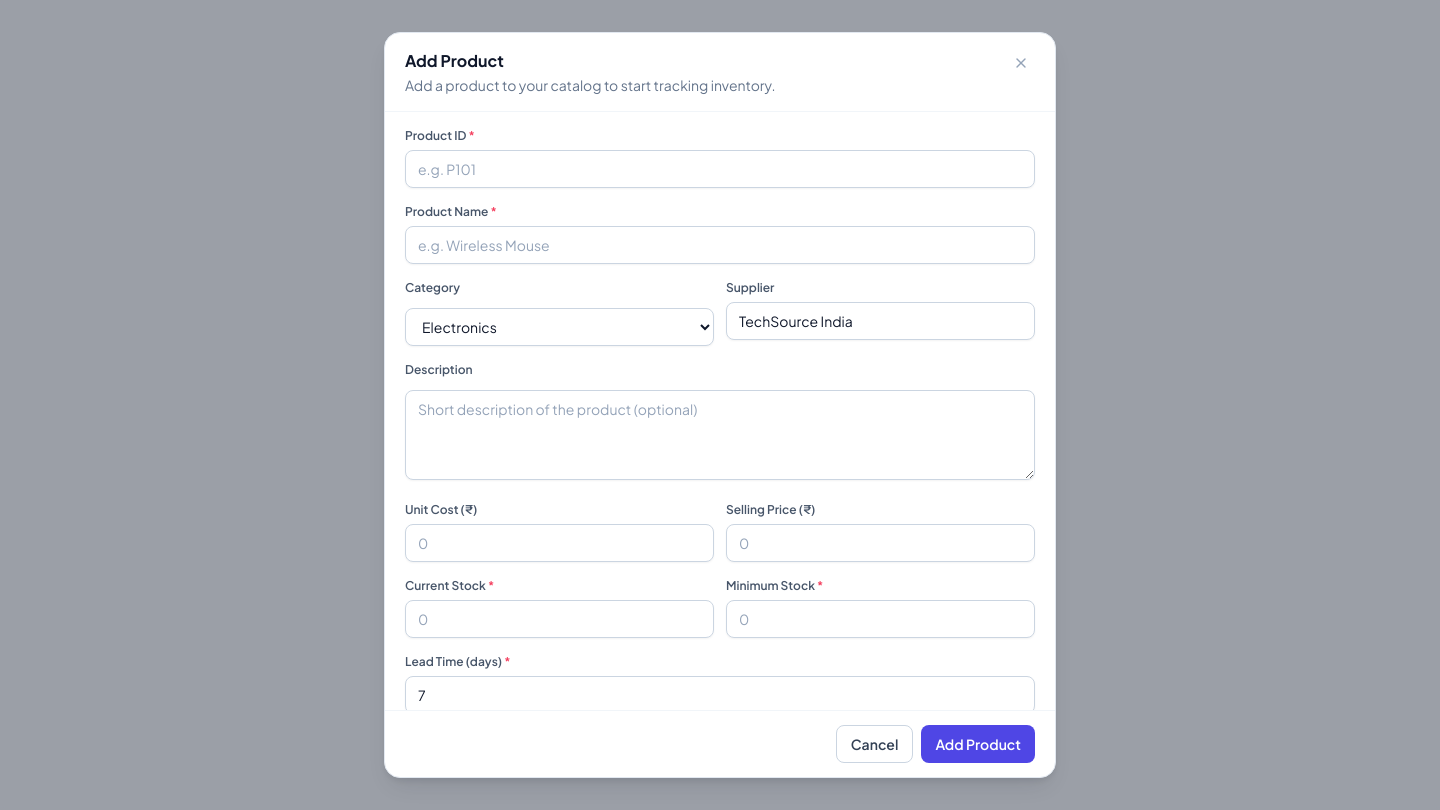
Test case: adding a product › refuses an empty minimum stock even once the current stock is answered
Type "P101" into the field labelled "Product ID *" at (720, 169), box x1=405 y1=150 x2=1035 y2=188
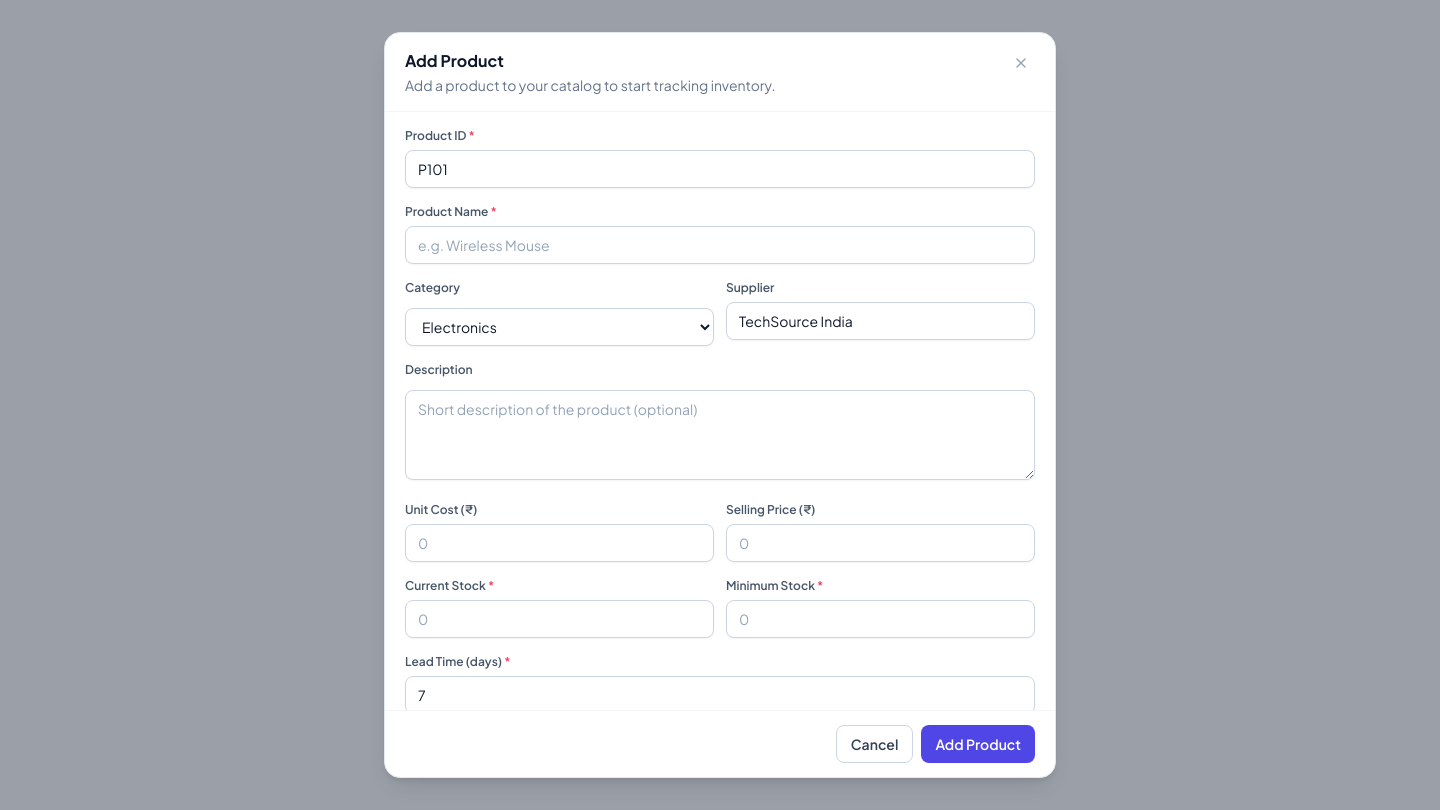
Type "Wireless Mouse" into the field labelled "Product Name *" at (720, 245), box x1=405 y1=226 x2=1035 y2=264
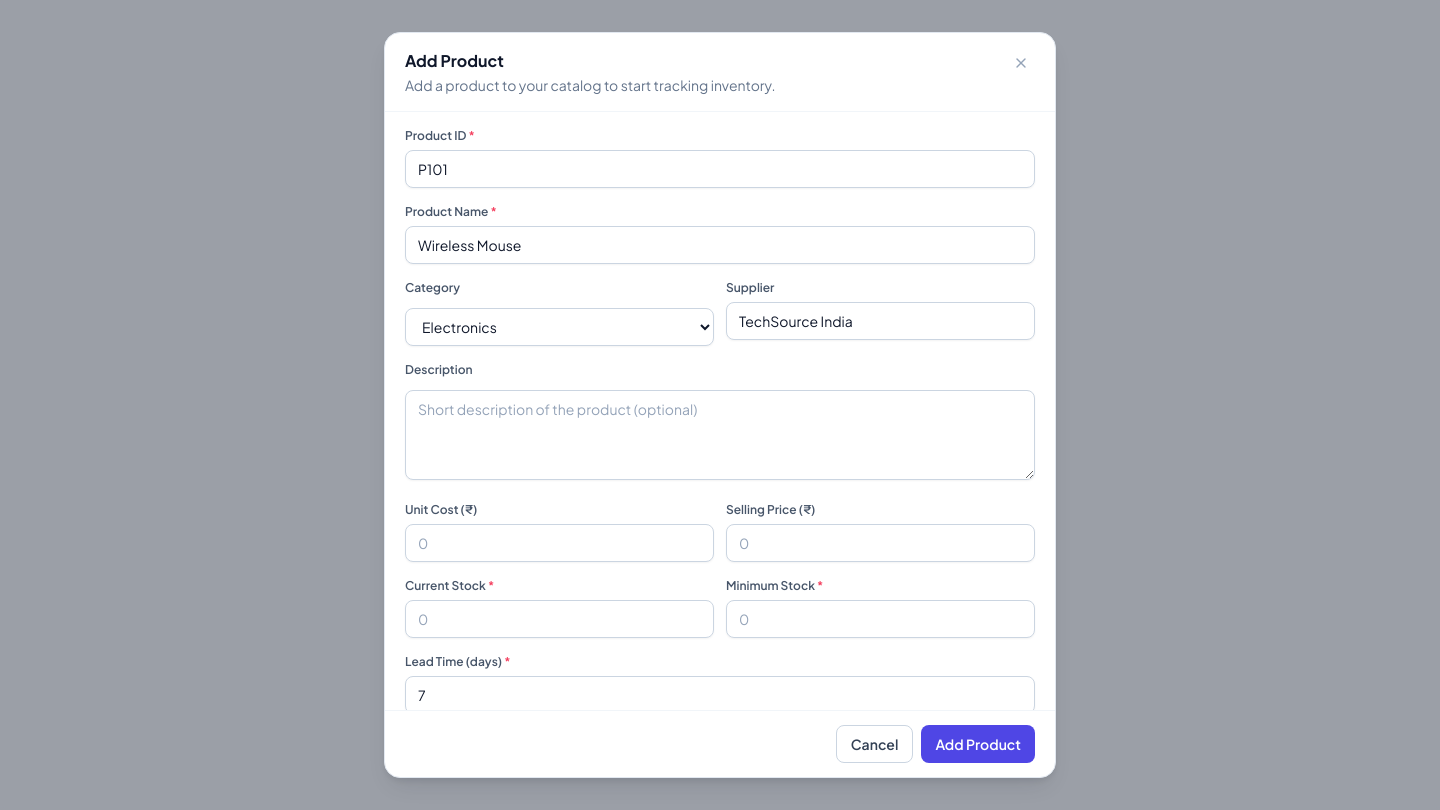
Type "40" into the number field labelled "Current Stock *" at (560, 619), box x1=405 y1=600 x2=714 y2=638
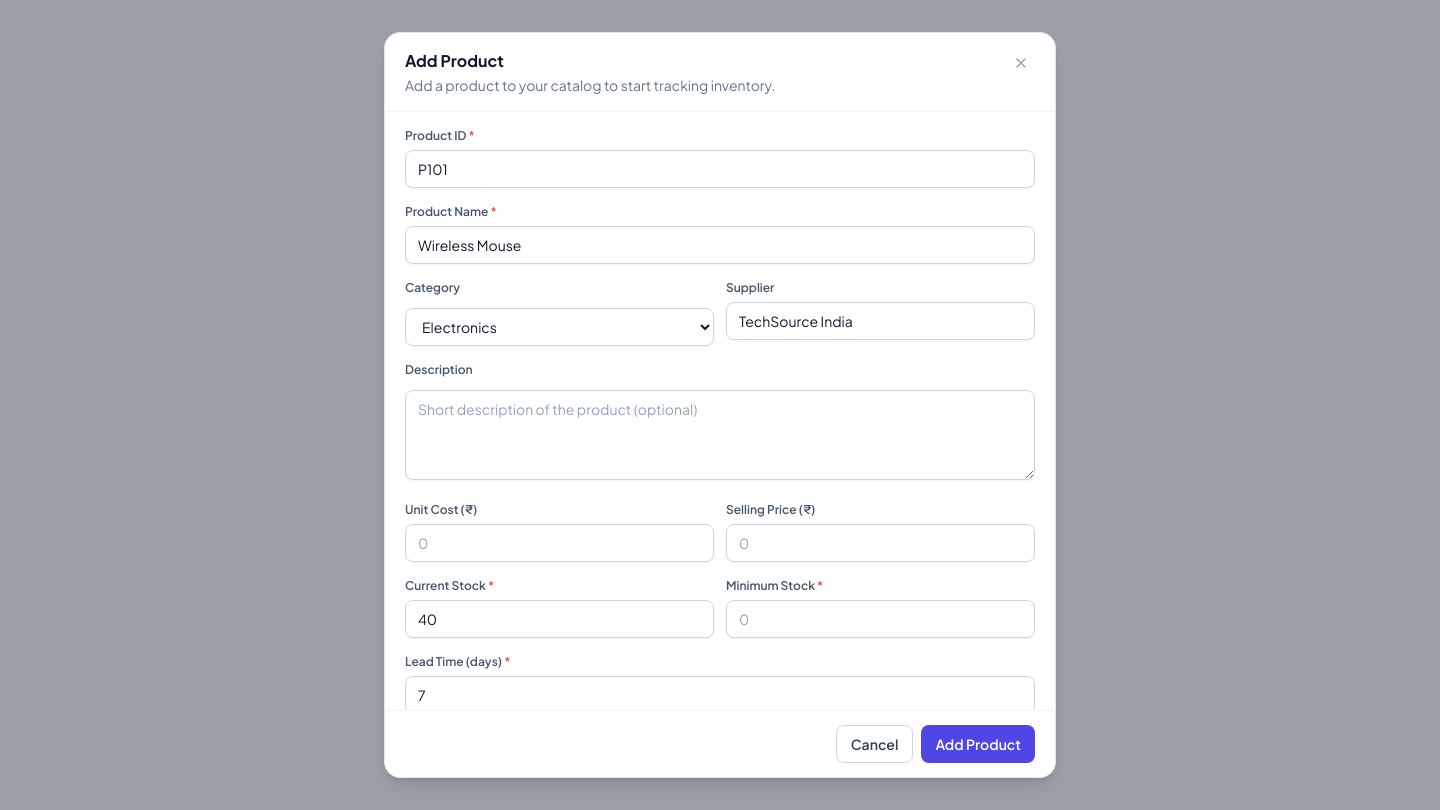
Click the button "Add Product" at (978, 744), box x1=921 y1=725 x2=1035 y2=763
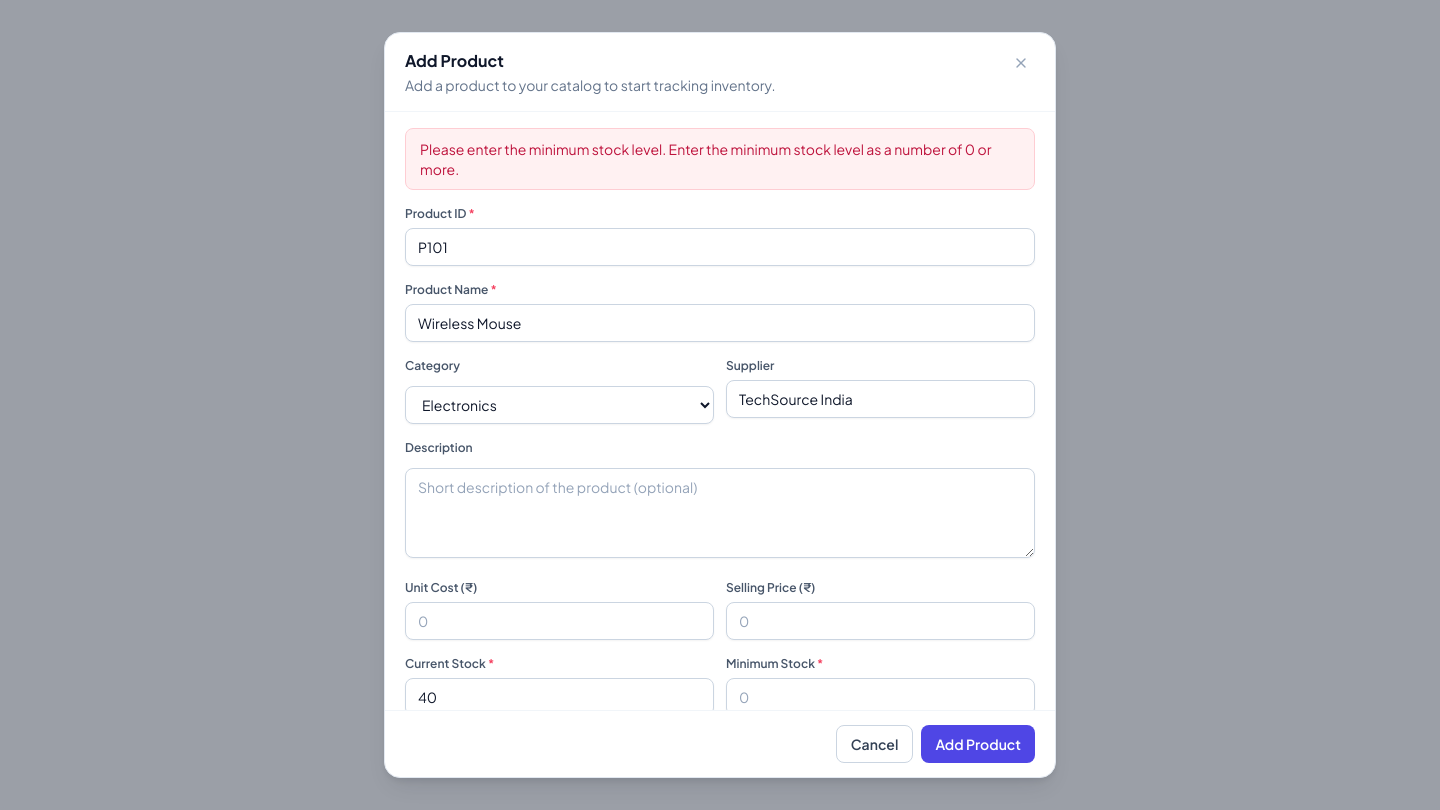
Now the text "minimum stock level" is shown, box x1=420 y1=140 x2=991 y2=178
